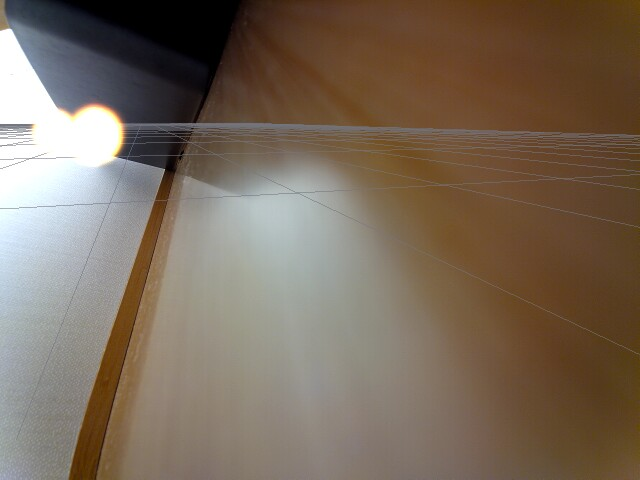fire: (66, 101, 128, 166), (31, 108, 70, 152)
